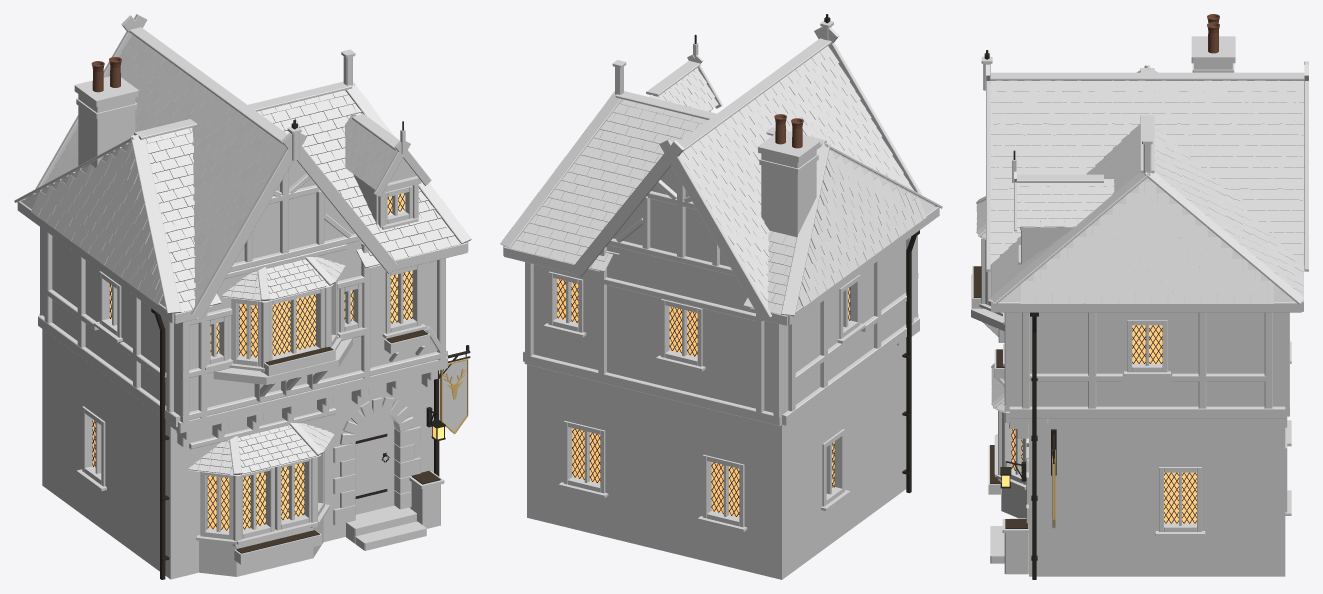
Rendered from SilverbrookTownhouse6.glb.
3 views of the same model, side by side, from view 1: azimuth 30°, elevation 25°; view 2: azimuth 150°, elevation 25°; view 3: azimuth 270°, elevation 25° (orthographic). The views are drawn at different scales.
Parts seen in each view (by area): view 1: SM_SBTownhouse6_Roof, SM_SBTownhouse6_Timber, SM_SBTownhouse6_Masonry, SM_SBTownhouse6_Plaster, SM_SBTownhouse6_Details, SM_SBTownhouse6_Details_Door1; view 2: SM_SBTownhouse6_Masonry, SM_SBTownhouse6_Roof, SM_SBTownhouse6_Timber, SM_SBTownhouse6_Plaster, SM_SBTownhouse6_Details; view 3: SM_SBTownhouse6_Roof, SM_SBTownhouse6_Masonry, SM_SBTownhouse6_Timber, SM_SBTownhouse6_Plaster, SM_SBTownhouse6_Details.
Boxes of the visible parts, x1,y1,x2,y2 form: SM_SBTownhouse6_Roof: [14, 27, 471, 476]; SM_SBTownhouse6_Timber: [17, 14, 468, 564]; SM_SBTownhouse6_Masonry: [42, 76, 444, 579]; SM_SBTownhouse6_Plaster: [42, 158, 436, 415]; SM_SBTownhouse6_Details: [91, 57, 470, 579]; SM_SBTownhouse6_Details_Door1: [355, 413, 394, 514]; SM_SBTownhouse6_Masonry: [527, 133, 906, 579]; SM_SBTownhouse6_Roof: [500, 38, 942, 316]; SM_SBTownhouse6_Timber: [503, 20, 939, 531]; SM_SBTownhouse6_Plaster: [533, 111, 915, 413]; SM_SBTownhouse6_Details: [557, 14, 919, 517]; SM_SBTownhouse6_Roof: [976, 65, 1304, 413]; SM_SBTownhouse6_Masonry: [990, 36, 1285, 576]; SM_SBTownhouse6_Timber: [971, 56, 1308, 536]; SM_SBTownhouse6_Plaster: [1009, 220, 1285, 406]; SM_SBTownhouse6_Details: [973, 14, 1219, 579].
Bounding box in the file's own units: 6.94 × 8.97 × 6.13.
